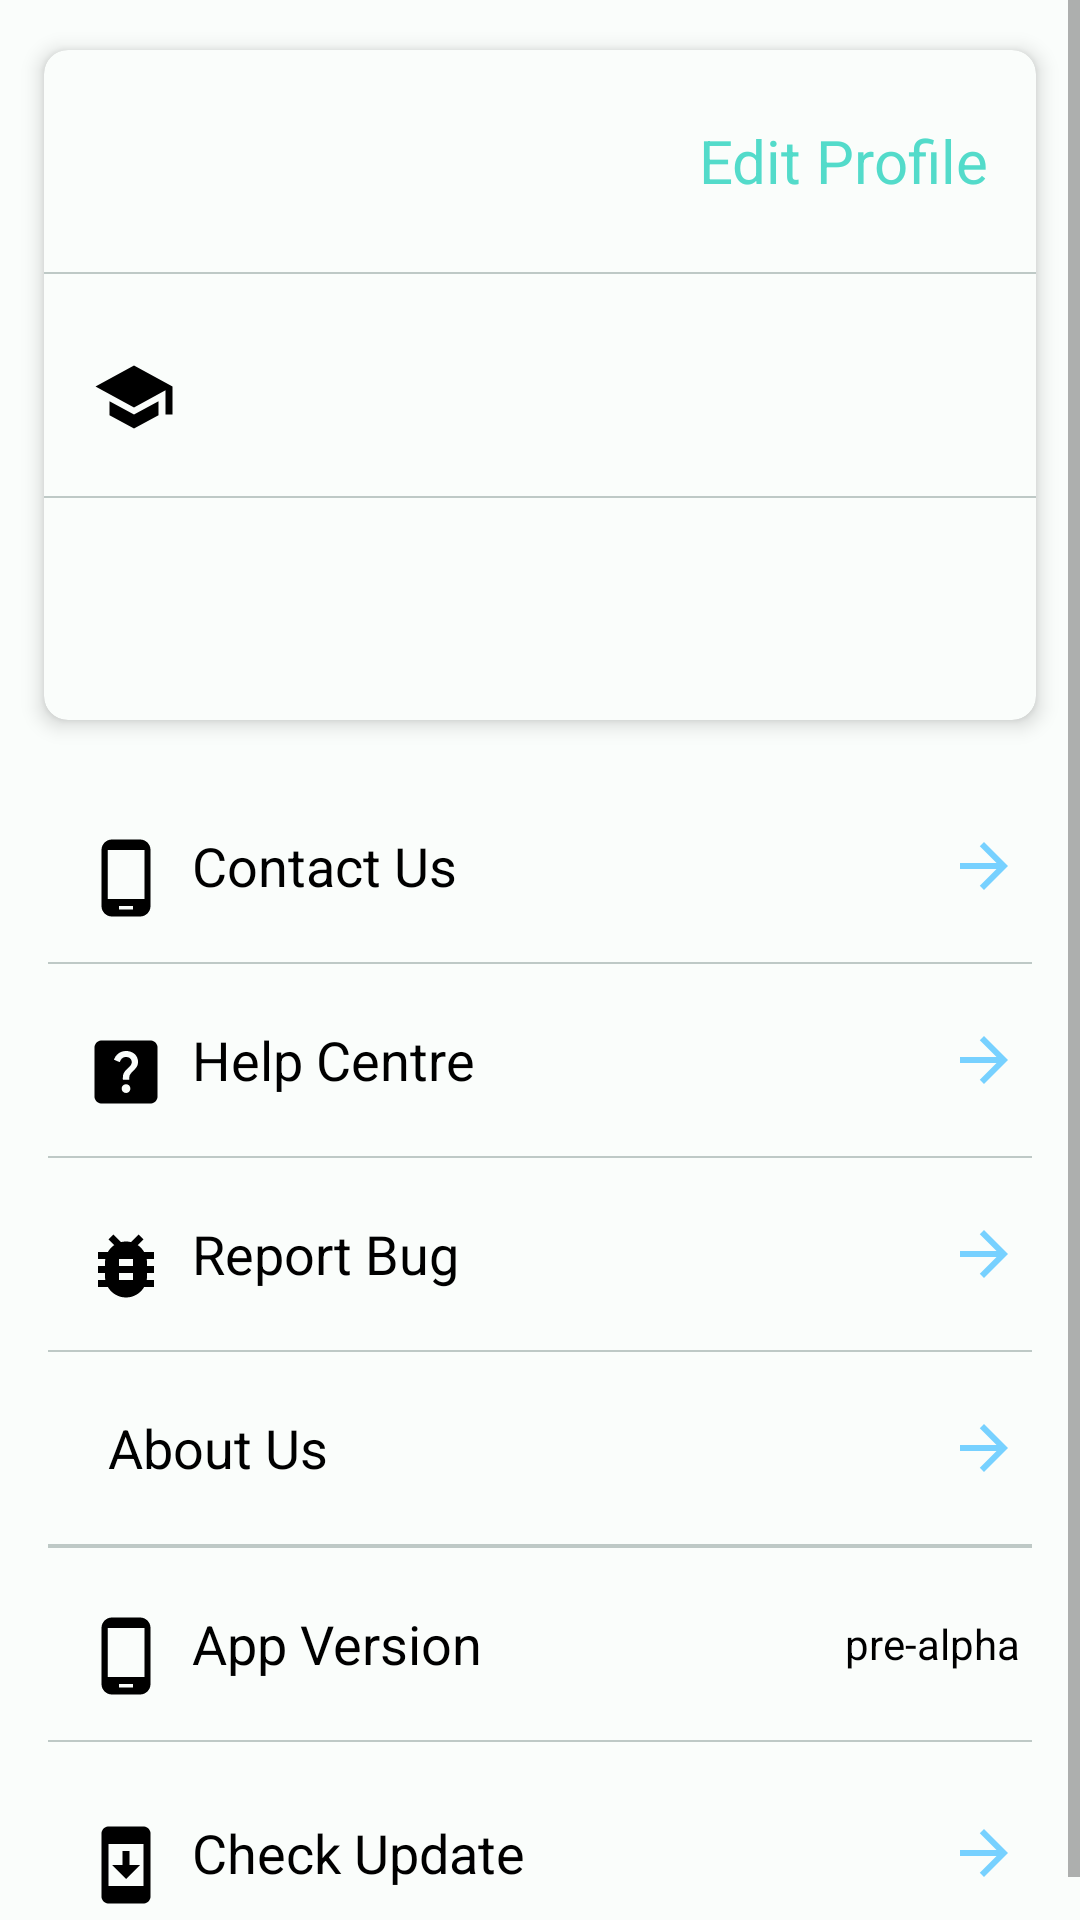

Icons on this 1080x1920 Android screen, each with its box as (x1, y1, x2, y2):
arrow: (960, 842, 1008, 890), (960, 1036, 1008, 1084), (960, 1230, 1008, 1278), (960, 1424, 1008, 1472), (960, 1829, 1008, 1877)
department: (95, 365, 173, 429)
help center: (94, 1040, 158, 1104)
